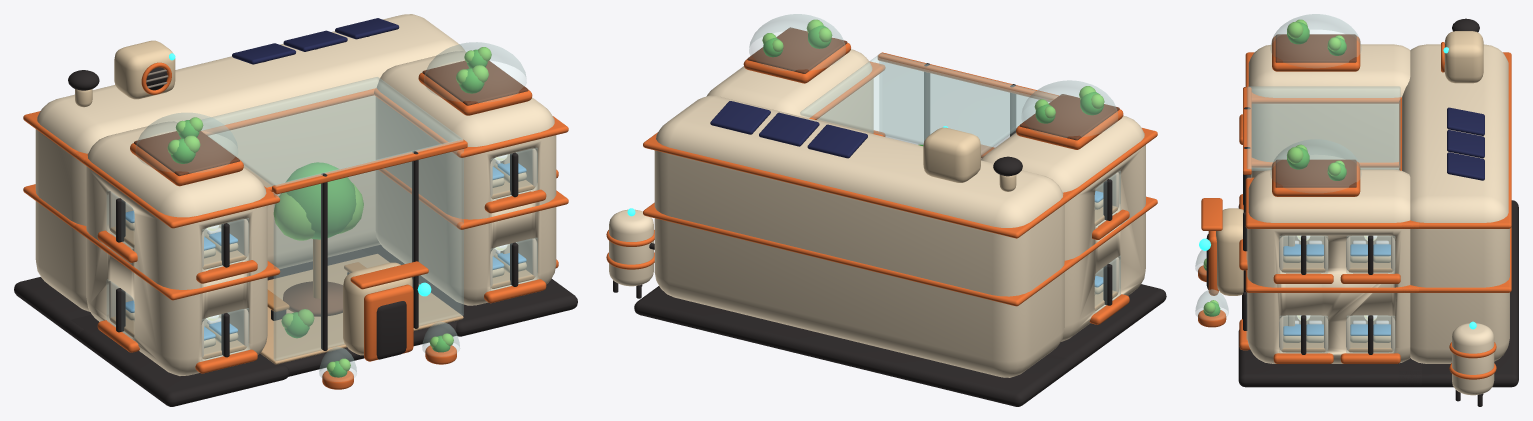
The model's file is home-20.glb.
3 renders of one model, left to right at view 1: azimuth 30°, elevation 25°; view 2: azimuth 150°, elevation 25°; view 3: azimuth 270°, elevation 25°, orthographic. The views are drawn at different scales.
Visible parts, largest first — view 1: Cube.003, Cube.022, Cube, Cube.006, Cube.013, Cube.016, Cube.170, Sphere.010, Sphere.011, Cube.012, Cube.163, Cube.017 (+1 smaller); view 2: Cube.003, Cube.022, Cube, Cube.006, Cube.170, Cube.163, Cube.016, Sphere.010, Sphere.011, Cube.012; view 3: Cube.003, Cube.022, Cube.006, Cube, Cube.016, Cube.170, Cube.163, Cube.012, Cube.017, Cube.013, Sphere.011, Sphere.010 (+1 smaller).
Boxes of the visible parts, <box> form: Cube.003: <box>35,14,556,375</box>; Cube.022: <box>106,42,537,381</box>; Cube: <box>14,36,577,406</box>; Cube.006: <box>23,62,568,389</box>; Cube.013: <box>110,180,535,364</box>; Cube.016: <box>75,40,526,355</box>; Cube.170: <box>134,60,528,316</box>; Sphere.010: <box>170,49,487,377</box>; Sphere.011: <box>167,47,491,372</box>; Cube.012: <box>109,148,536,357</box>; Cube.163: <box>232,18,399,64</box>; Cube.017: <box>125,163,526,340</box>; Cube.003: <box>609,49,1145,377</box>; Cube.022: <box>749,14,1120,313</box>; Cube: <box>613,63,1166,406</box>; Cube.006: <box>606,42,1157,324</box>; Cube.170: <box>747,27,1119,140</box>; Cube.163: <box>710,101,867,158</box>; Cube.016: <box>923,127,1103,295</box>; Sphere.010: <box>763,25,1103,145</box>; Sphere.011: <box>762,19,1104,118</box>; Cube.012: <box>1096,172,1118,292</box>; Cube.003: <box>1247,44,1509,395</box>; Cube.022: <box>1195,14,1400,353</box>; Cube.006: <box>1198,36,1511,379</box>; Cube: <box>1206,18,1518,406</box>; Cube.016: <box>1216,31,1483,342</box>; Cube.170: <box>1275,34,1356,187</box>; Cube.163: <box>1447,107,1484,180</box>; Cube.012: <box>1279,235,1395,350</box>; Cube.017: <box>1283,244,1390,335</box>; Cube.013: <box>1281,262,1392,352</box>; Sphere.011: <box>1203,19,1344,314</box>; Sphere.010: <box>1203,22,1346,316</box>.
Size of the model in its own units: 2.68 by 1.36 by 1.84.
